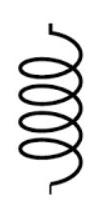inductor: (16, 21, 87, 194)
